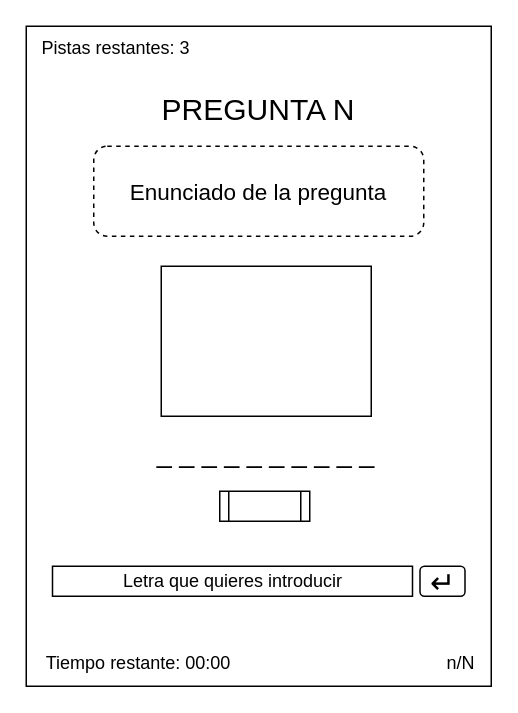
Some shapes in this 518 by 713 pixel diagram are drawn without their labels. The shapes that lost their labels are listed below. From the top down, each one's centre as x and y in pixels, then its label:
At (265,340): "Foto (opcional)".
At (264,505): "Pista".
